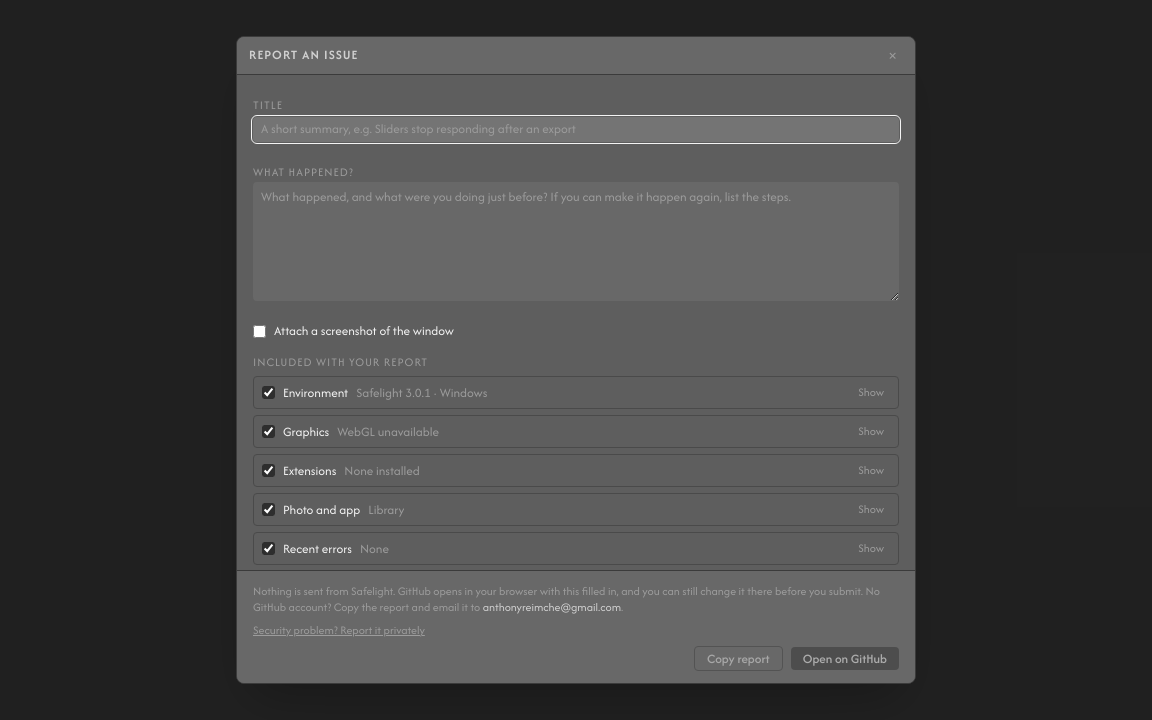
Test: ReportIssueDialog screenshot › keeps the report when Safelight can't confirm the browser opened
This screenshot has width=1152, height=720.
Expected: the checkbox named "Include Environment" is shown, [262, 386, 275, 399]
Type "Sliders freeze" into the field labelled "Title" at (576, 129), box [253, 117, 899, 142]
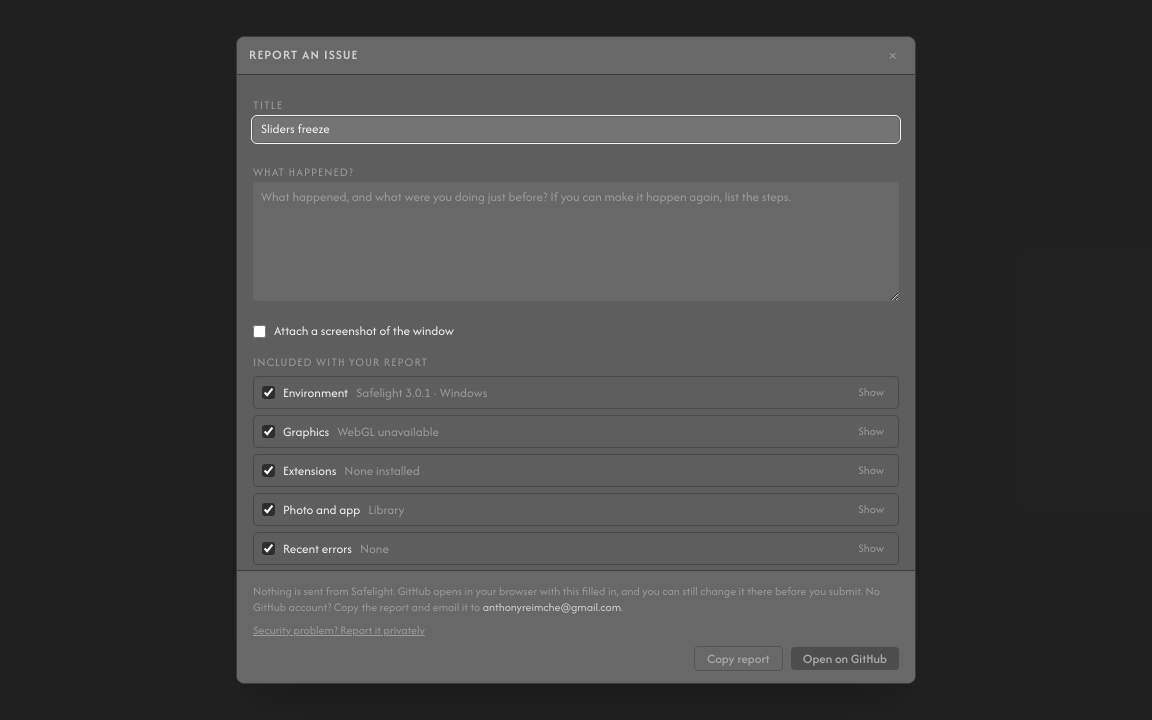
Type "They stop moving." into the text box labelled "What happened?" at (576, 241), box [253, 182, 899, 301]
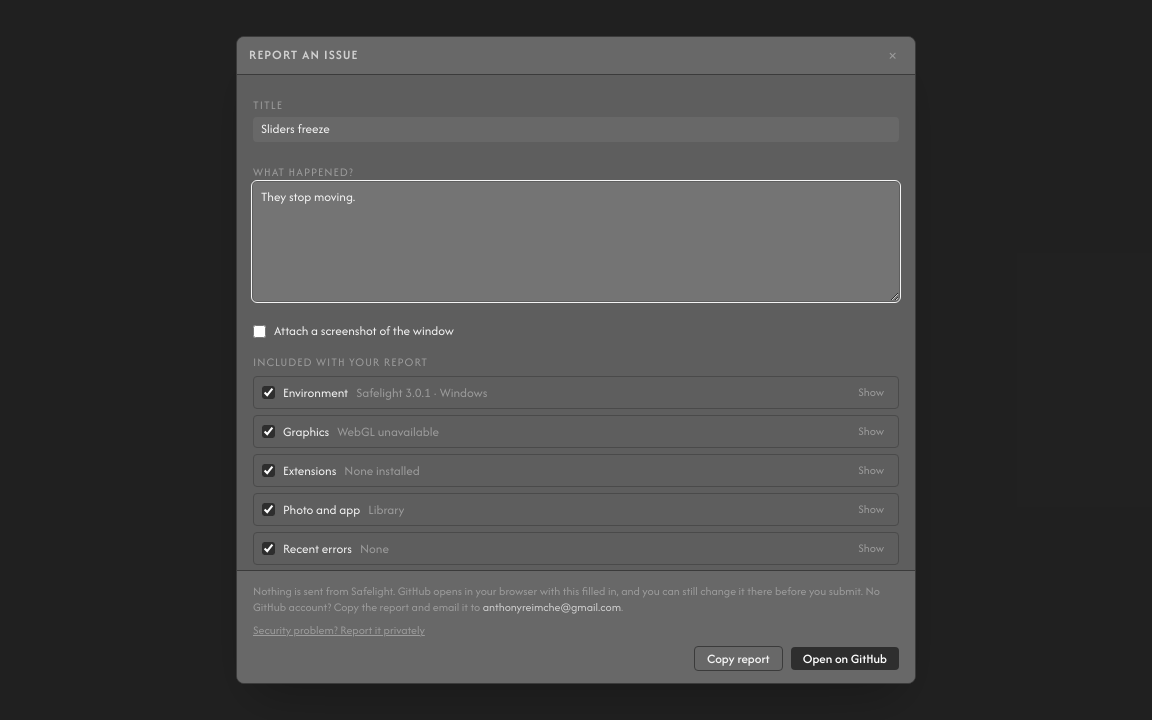
Click the button "Open on GitHub" at (845, 658), box [791, 647, 899, 670]
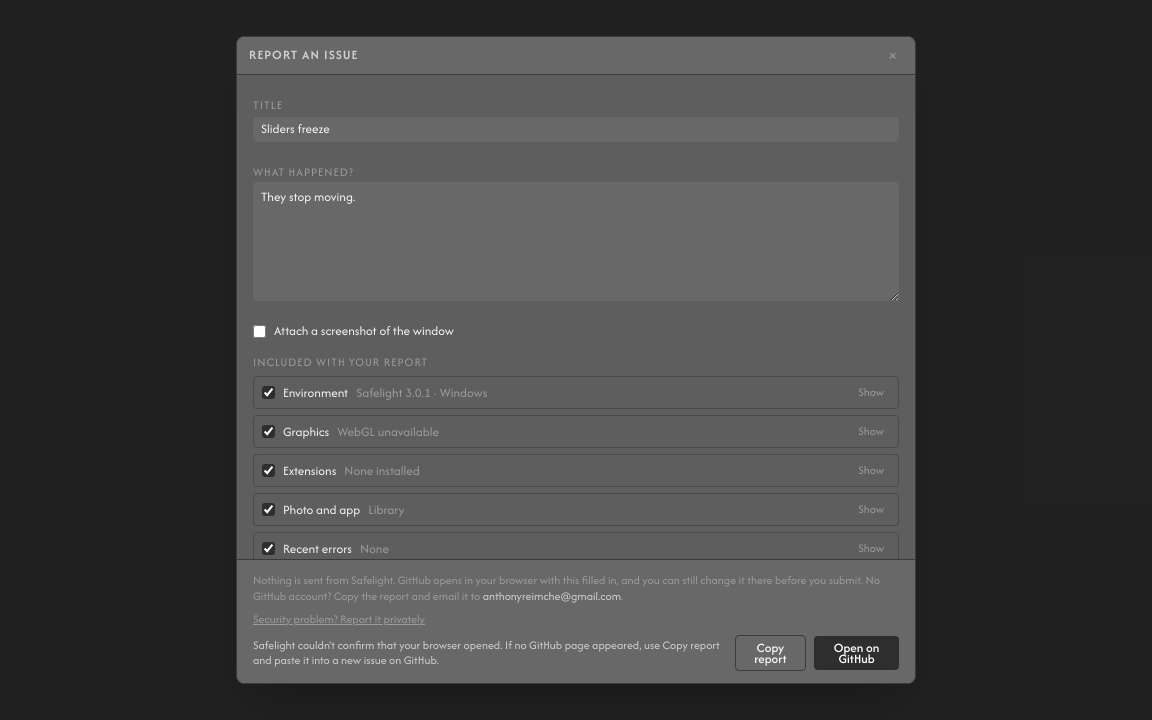
Expected: the dialog is shown, [236, 36, 916, 684]
Expected: the message shows "Copy report", [253, 637, 720, 668]
